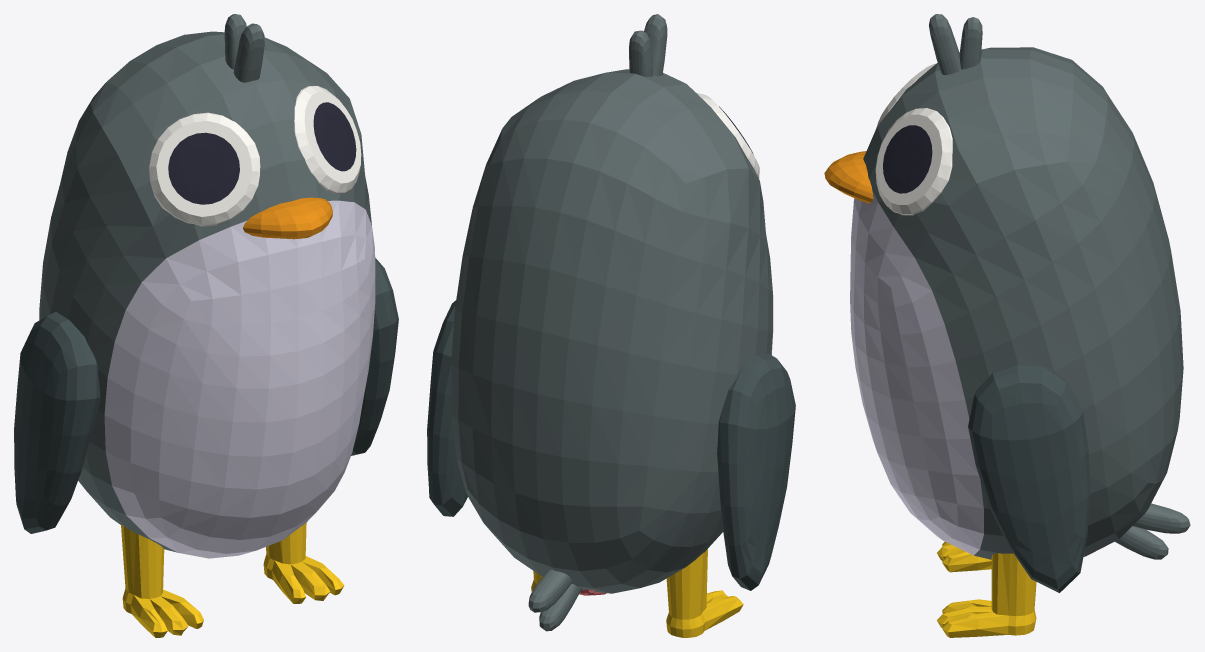
File: Penguin_LOD0.fbx
3 views of the same model, side by side, from view 1: azimuth 30°, elevation 25°; view 2: azimuth 150°, elevation 25°; view 3: azimuth 270°, elevation 25° (orthographic). The views are drawn at different scales.
Visible parts, largest first — view 1: Mesh; view 2: Mesh; view 3: Mesh.
Part boxes in pixels (box(x1,y1,x2,y2)): Mesh: box(14, 14, 398, 637); Mesh: box(427, 14, 795, 637); Mesh: box(824, 14, 1190, 637).
Size of the model in its own units: 116 by 189 by 108.
Materials: 1 (1 with a texture image).
